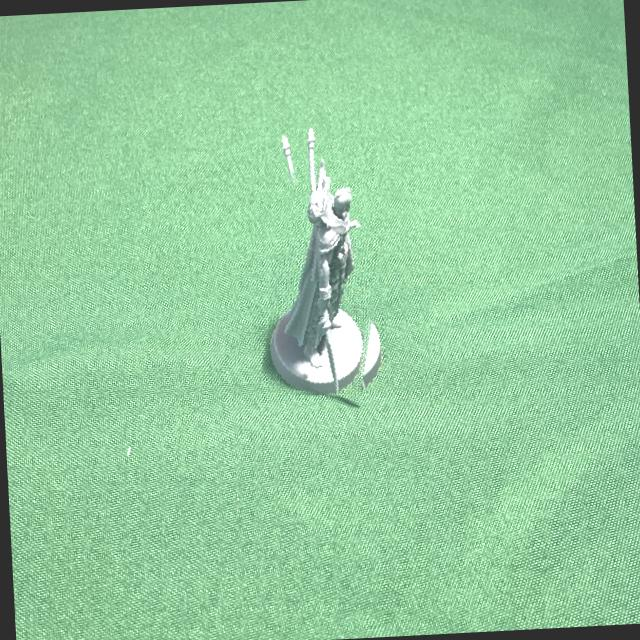isis_follower: (259, 124, 401, 402)
